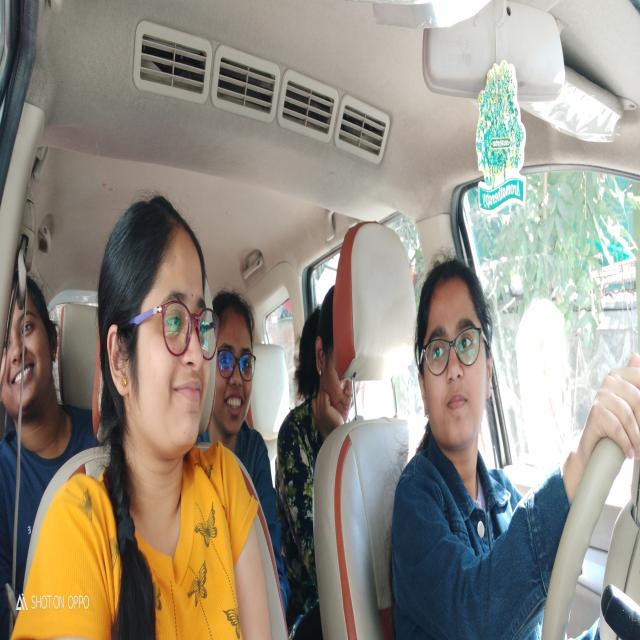LeftRight: (418, 246, 496, 476)
person: (105, 199, 214, 462), (3, 274, 65, 446), (307, 268, 364, 441), (208, 280, 262, 442)
